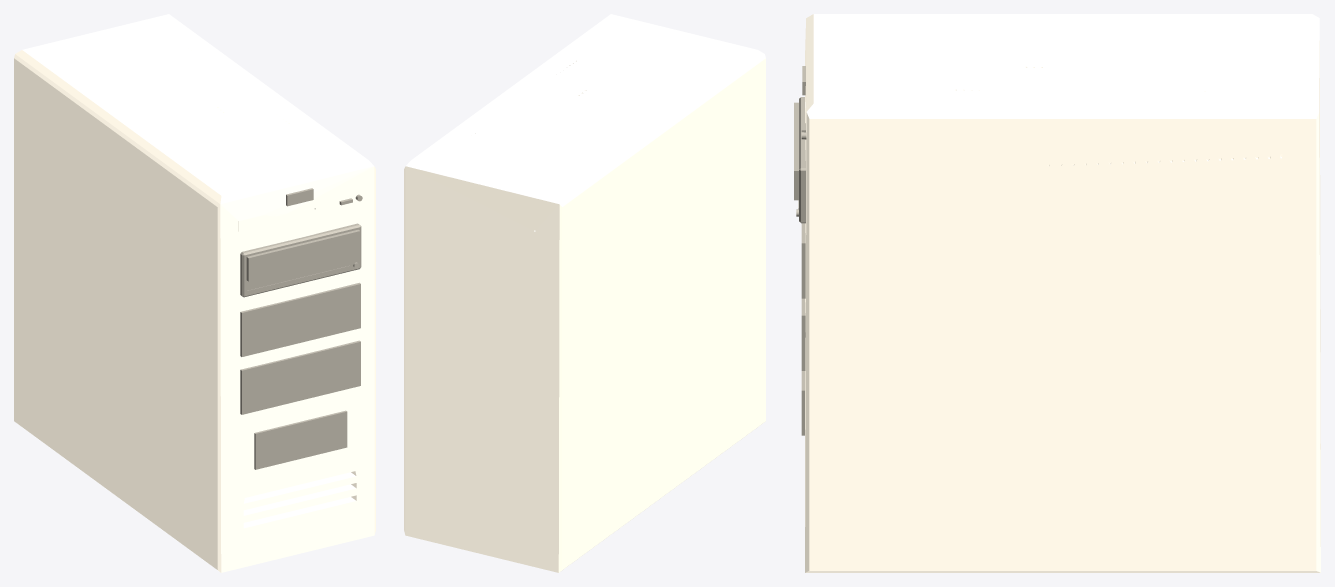
The model's file is System Unit.fbx.
The picture shows the model from 3 angles, left to right: view 1: azimuth 30°, elevation 25°; view 2: azimuth 150°, elevation 25°; view 3: azimuth 270°, elevation 25°; orthographic projection. The views are drawn at different scales.
Parts seen in each view (by area): view 1: System Unit, Cube.008, Cube.009, Cube.010, Cube.006, Cube; view 2: System Unit; view 3: System Unit, Cube.
Part boxes in pixels (x1,y1,x2,y2): System Unit: [14, 14, 375, 572]; Cube.008: [240, 282, 360, 356]; Cube.009: [240, 340, 360, 414]; Cube.010: [254, 410, 347, 469]; Cube.006: [246, 229, 360, 281]; Cube: [240, 223, 361, 297]; System Unit: [404, 14, 765, 572]; System Unit: [805, 14, 1320, 572]; Cube: [799, 97, 805, 223].
Size of the model in its own units: 20 by 45 by 45.95.
